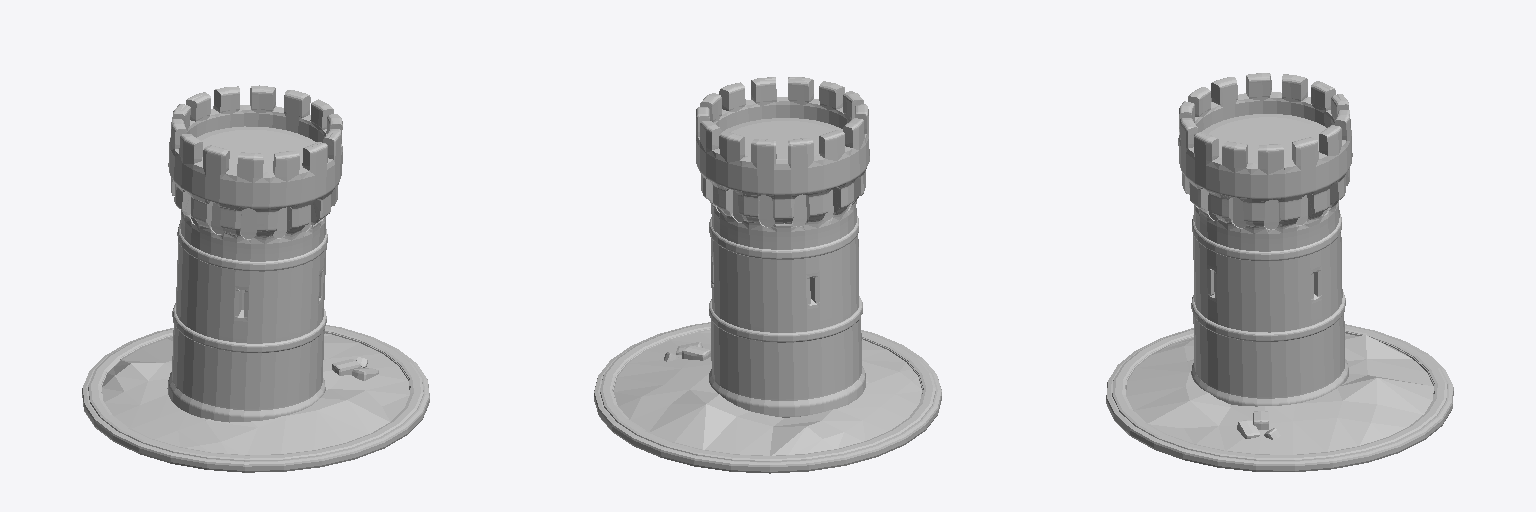
The model's file is torre.obj.
The picture shows the model from 3 angles: view 1: azimuth 30°, elevation 25°; view 2: azimuth 150°, elevation 25°; view 3: azimuth 270°, elevation 25°; orthographic projection.
Visible parts, largest first — view 1: Plane_Plane.001; view 2: Plane_Plane.001; view 3: Plane_Plane.001.
Part boxes in pixels (x1,y1,x2,y2): Plane_Plane.001: (82, 85, 429, 472); Plane_Plane.001: (594, 77, 941, 473); Plane_Plane.001: (1106, 73, 1453, 471).
Bounding box in the file's own units: 4.06 × 3.74 × 4.06.